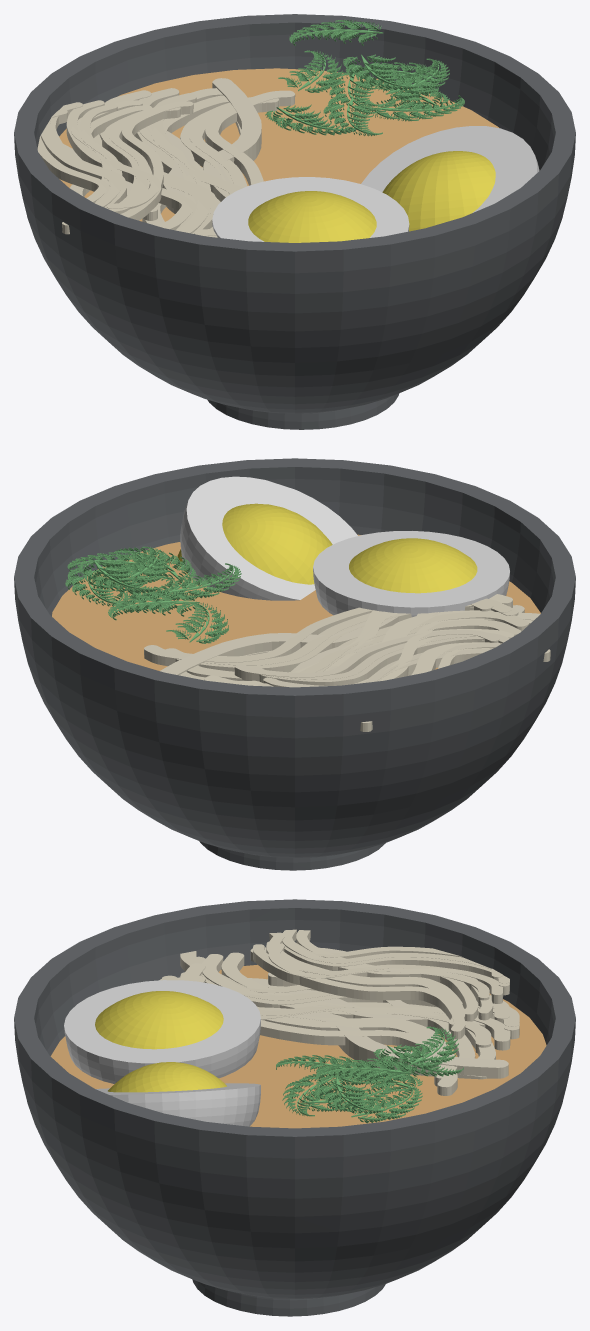
Rendered from Nina K - Ramen.glb.
3 views of the same model, one above another, from view 1: azimuth 30°, elevation 25°; view 2: azimuth 150°, elevation 25°; view 3: azimuth 270°, elevation 25° (orthographic).
Parts seen in each view (by area): view 1: Mesh_Mesh_head_geo.001_lambert2SG.001; view 2: Mesh_Mesh_head_geo.001_lambert2SG.001; view 3: Mesh_Mesh_head_geo.001_lambert2SG.001.
Part boxes in pixels (left/top/right/bottom): Mesh_Mesh_head_geo.001_lambert2SG.001: left=14, top=14, right=575, bottom=429; Mesh_Mesh_head_geo.001_lambert2SG.001: left=14, top=458, right=575, bottom=870; Mesh_Mesh_head_geo.001_lambert2SG.001: left=14, top=899, right=575, bottom=1316.
Bounding box in the file's own units: 0.113 × 0.0618 × 0.113.
